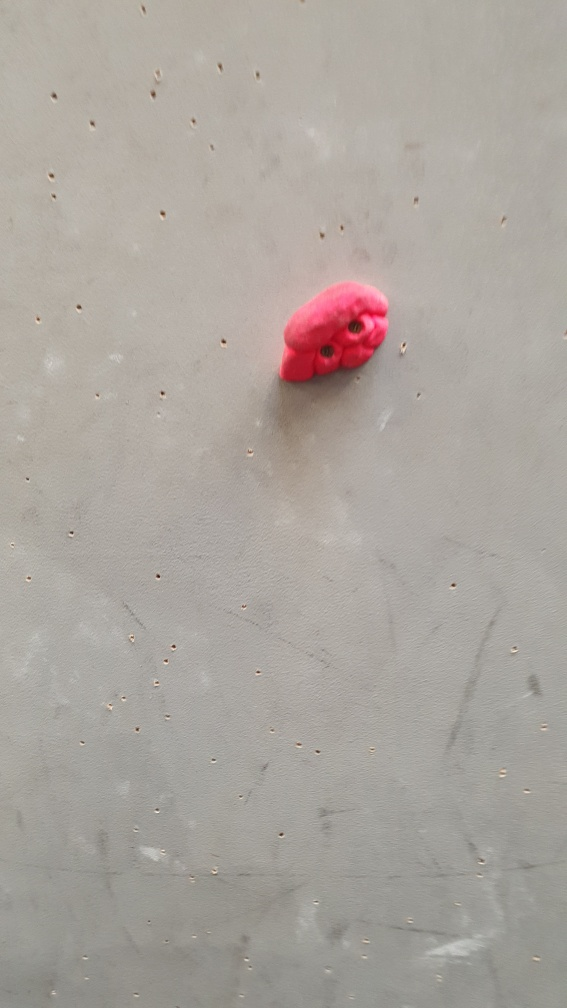Jug: (278, 275, 395, 387)
